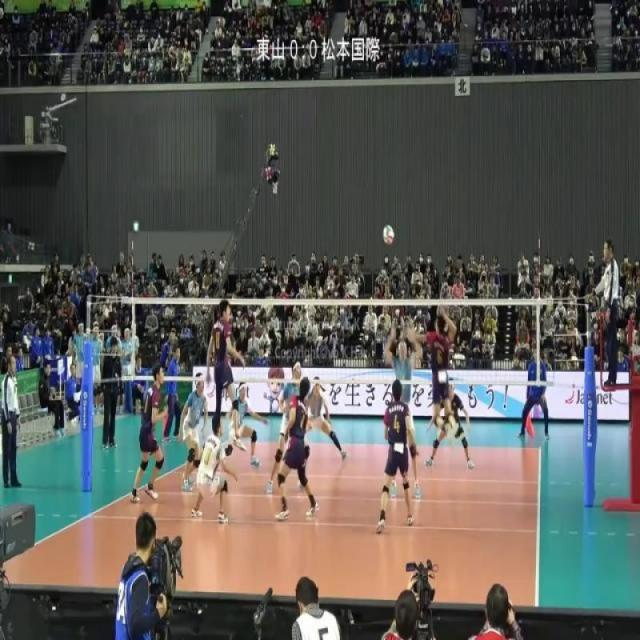volleyball: (382, 223, 395, 246)
